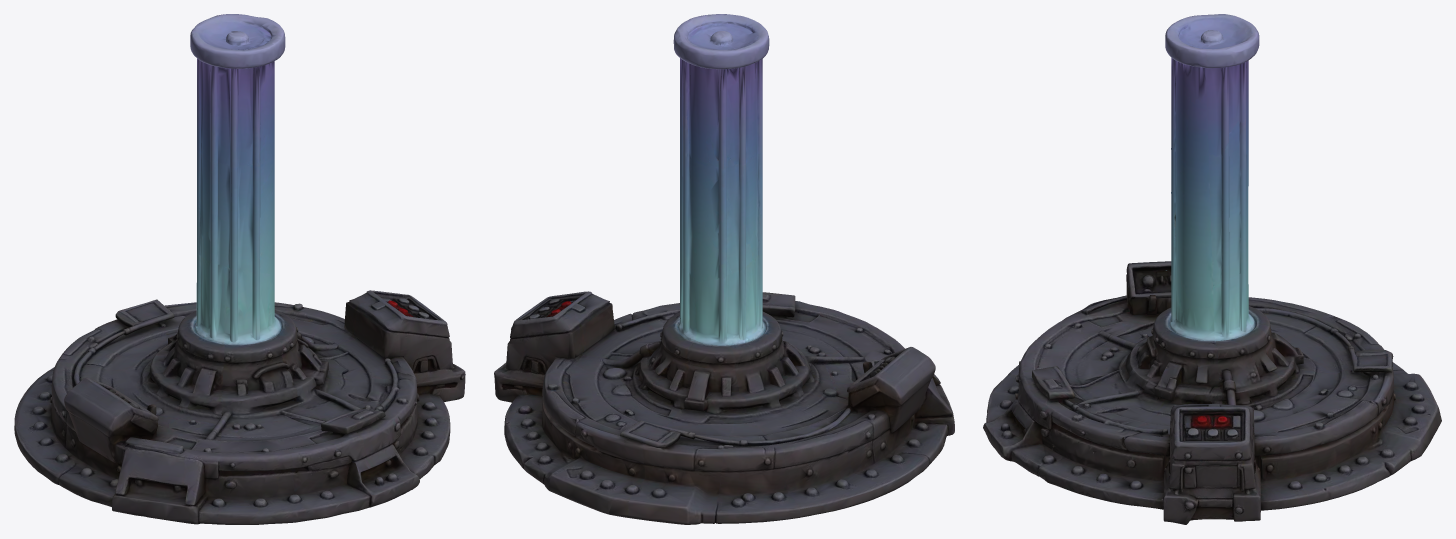
Rendered from core.glb.
3 renders of one model, left to right at view 1: azimuth 30°, elevation 25°; view 2: azimuth 150°, elevation 25°; view 3: azimuth 270°, elevation 25°, orthographic.
Parts seen in each view (by area): view 1: tripo_node_392df314-3efd-4b56-9055-4dbf369b4c50; view 2: tripo_node_392df314-3efd-4b56-9055-4dbf369b4c50; view 3: tripo_node_392df314-3efd-4b56-9055-4dbf369b4c50.
Boxes of the visible parts, <box> form: tripo_node_392df314-3efd-4b56-9055-4dbf369b4c50: <box>14,14,465,524</box>; tripo_node_392df314-3efd-4b56-9055-4dbf369b4c50: <box>494,14,954,524</box>; tripo_node_392df314-3efd-4b56-9055-4dbf369b4c50: <box>983,14,1441,524</box>.
Bounding box in the file's own units: 0.9999 × 0.95 × 0.9974.
Materials: 1 (1 with a texture image).
